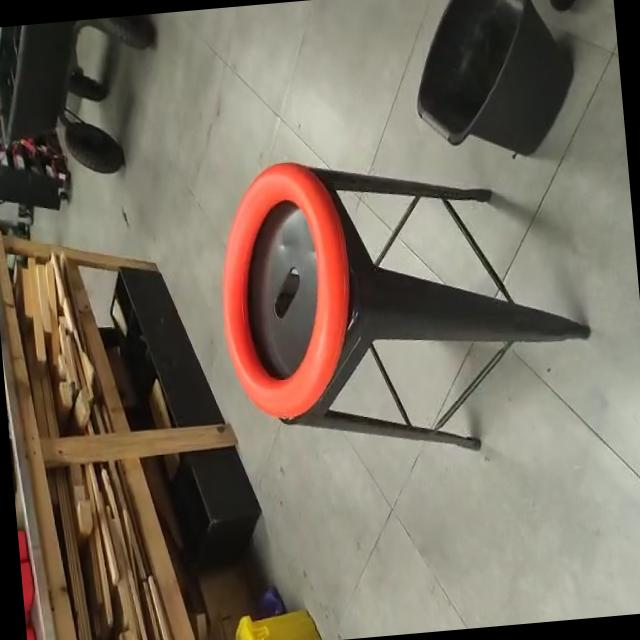note: (210, 157, 362, 428)
